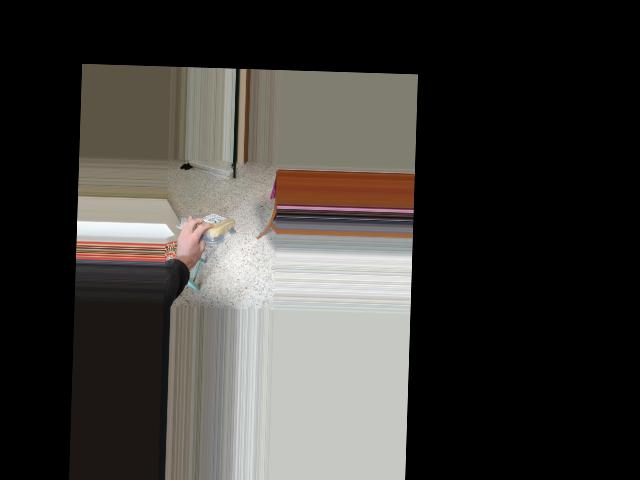cheese: (183, 212, 236, 240)
